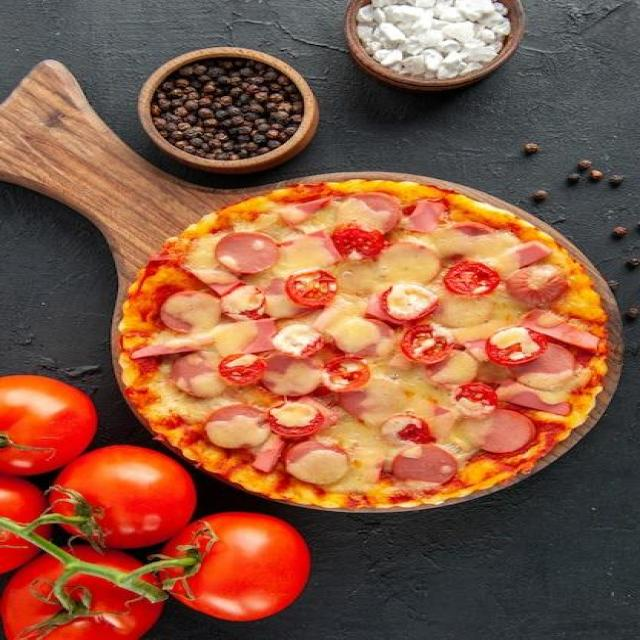pizza: (110, 177, 612, 513)
